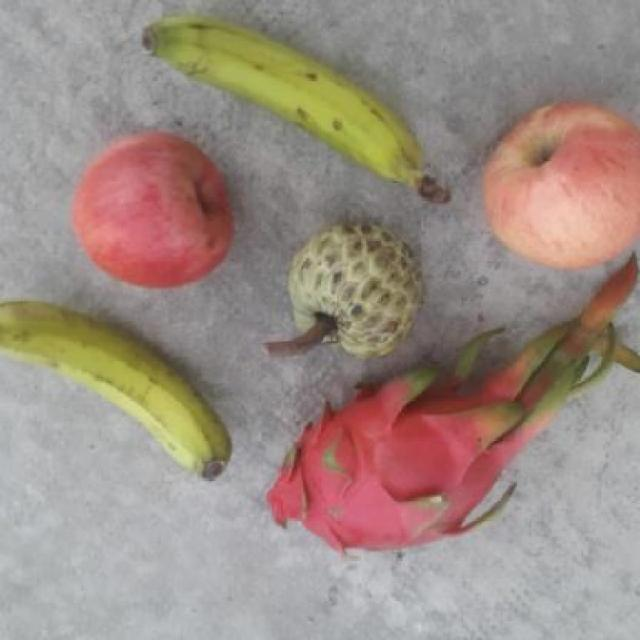apple: (66, 124, 240, 296), (474, 98, 638, 272)
banana: (128, 7, 450, 207), (1, 299, 234, 483)
dragon fruit: (260, 355, 514, 559)
sugar apple: (278, 219, 427, 361)
